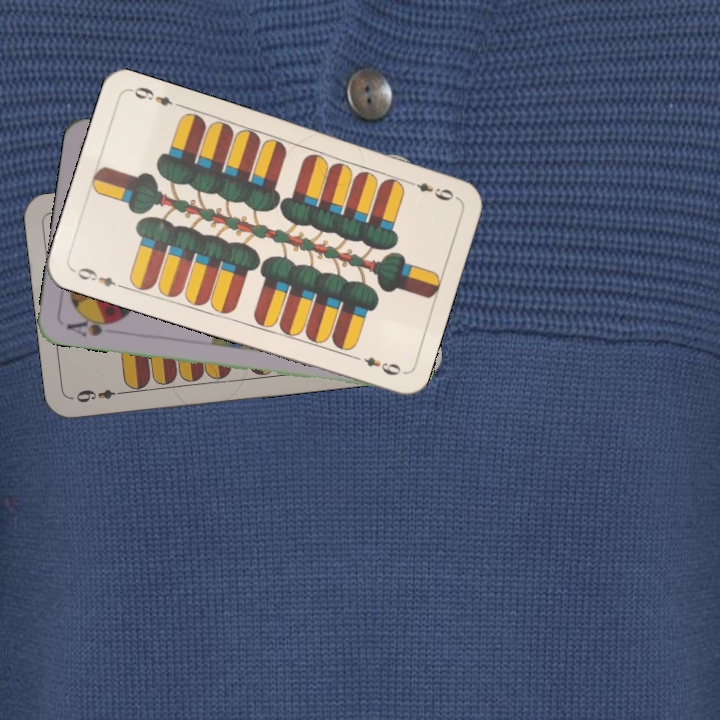E9: (69, 263, 126, 291), (402, 176, 459, 204), (72, 385, 128, 405)
SA: (62, 312, 122, 339)
